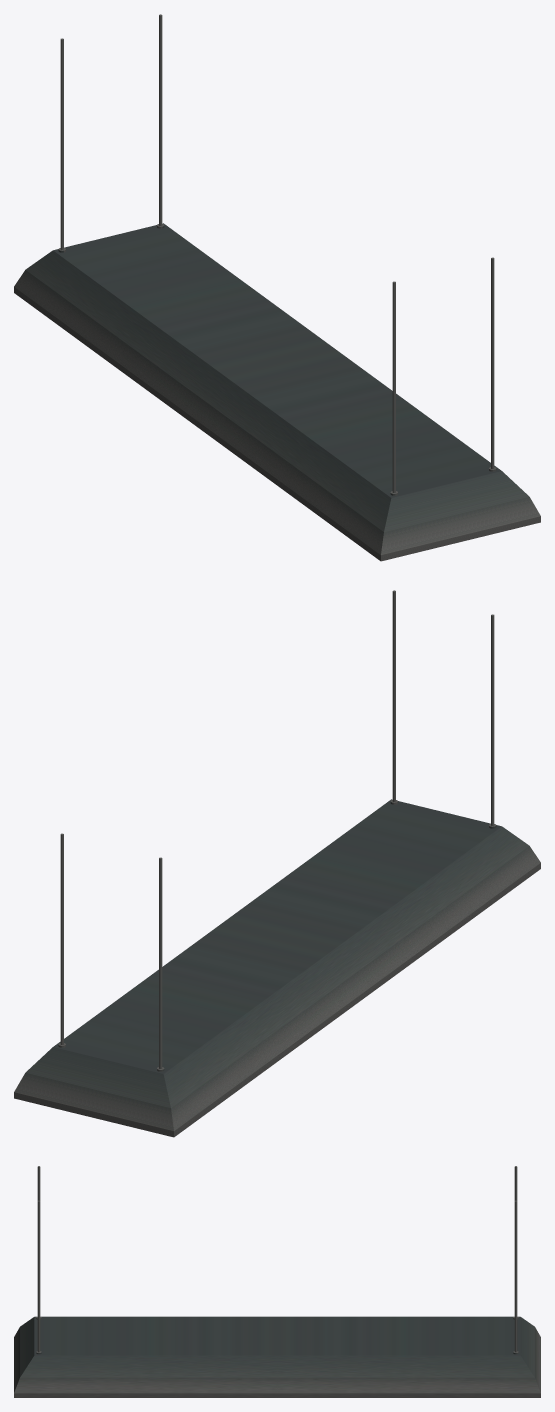
The model's file is Lamp.fbx.
The picture shows the model from 3 angles, top to bottom: view 1: azimuth 30°, elevation 25°; view 2: azimuth 150°, elevation 25°; view 3: azimuth 270°, elevation 25°; orthographic projection. The views are drawn at different scales.
Visible parts, largest first — view 1: Lamp; view 2: Lamp; view 3: Lamp.
Part boxes in pixels (x1,y1,x2,y2): Lamp: (14, 14, 540, 561); Lamp: (14, 590, 540, 1137); Lamp: (14, 1166, 540, 1397).
Bounding box in the file's own units: 1.1 × 1.71 × 4.39.
2 materials, 1 textured.
